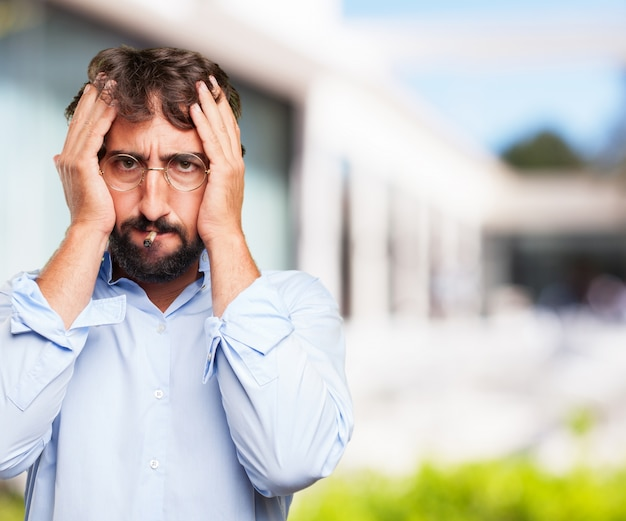cigarette: (140, 230, 160, 248)
